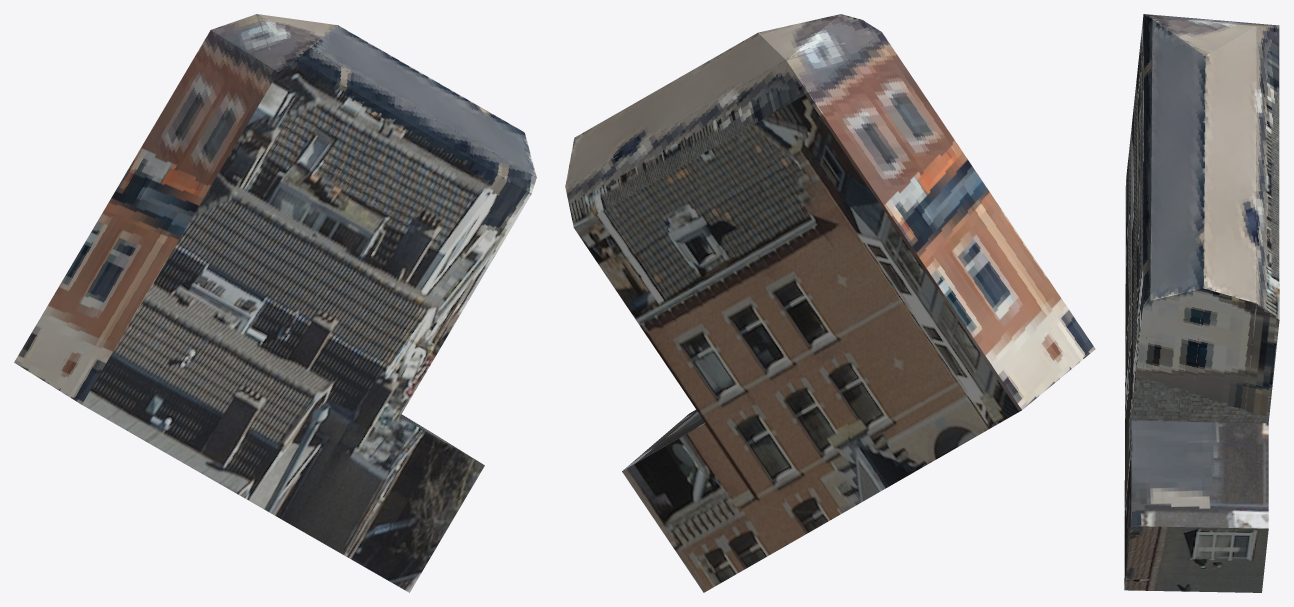
3 renders of one model, left to right at view 1: azimuth 30°, elevation 25°; view 2: azimuth 150°, elevation 25°; view 3: azimuth 270°, elevation 25°, orthographic. The views are drawn at different scales.
Parts seen in each view (by area): view 1: BAG_0599100000760416 (×6); view 2: BAG_0599100000760416 (×4); view 3: BAG_0599100000760416 (×6).
Part boxes in pixels (x1,y1,x2,y2): BAG_0599100000760416 (×6): (14, 14, 536, 592); BAG_0599100000760416 (×4): (565, 14, 1095, 592); BAG_0599100000760416 (×6): (1124, 14, 1279, 592).
Size of the model in its own units: 18.61 by 20.6 by 5.4.
5 materials, 5 textured.
